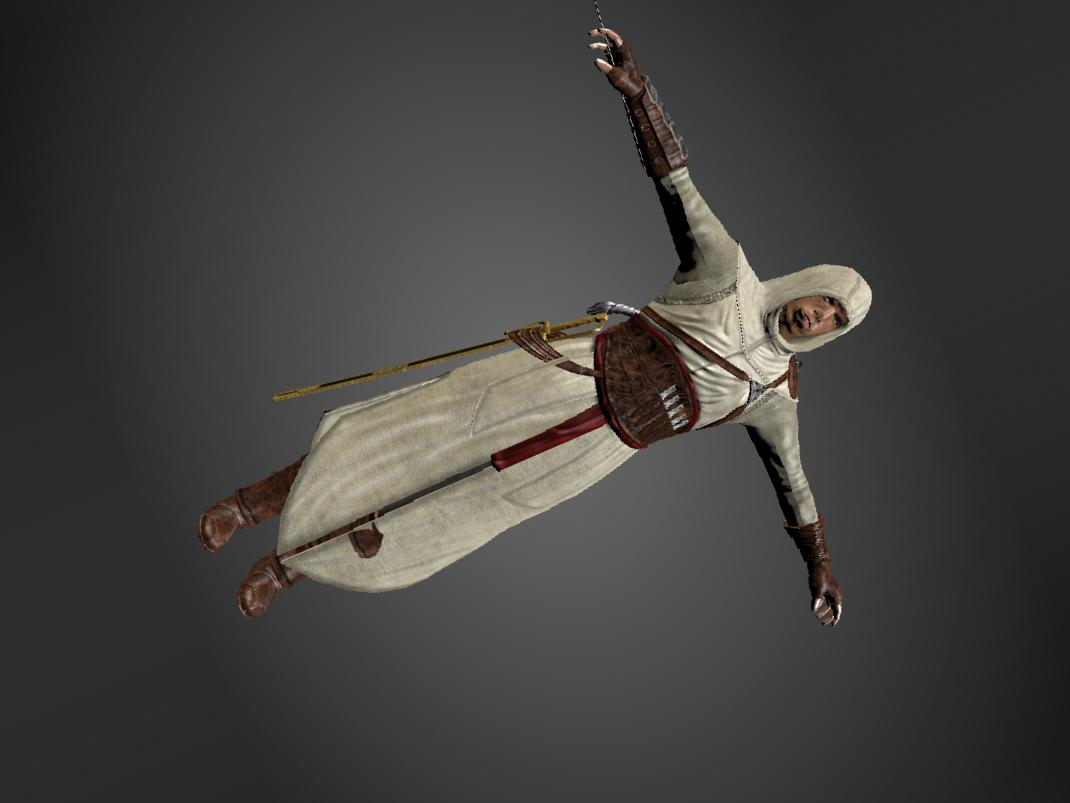clip: (348, 526, 390, 563)
